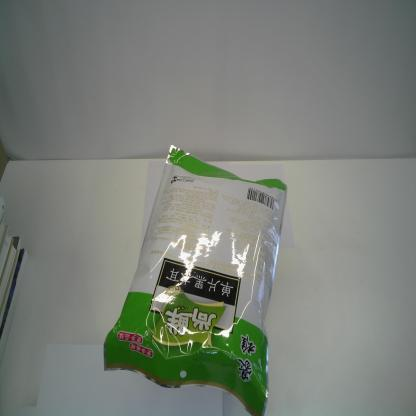Dried Food: (103, 143, 288, 416)
